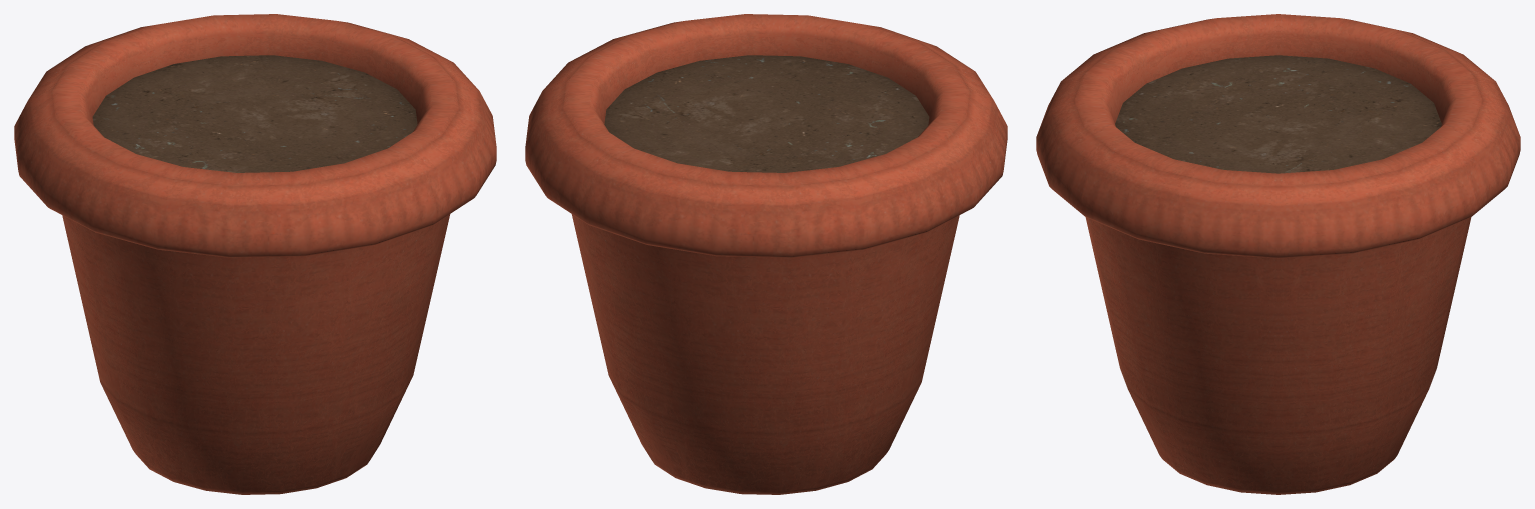
Rendered from GardenPot02_2.FBX.
3 views of the same model, side by side, from view 1: azimuth 30°, elevation 25°; view 2: azimuth 150°, elevation 25°; view 3: azimuth 270°, elevation 25° (orthographic).
Visible parts, largest first — view 1: GardenPot02_2; view 2: GardenPot02_2; view 3: GardenPot02_2.
Part boxes in pixels (x1,y1,x2,y2): GardenPot02_2: (14, 14, 496, 494); GardenPot02_2: (525, 14, 1007, 494); GardenPot02_2: (1036, 14, 1520, 494).
Size of what is drawn, in the model's own units: 0.5284 by 0.4171 by 0.5284.
